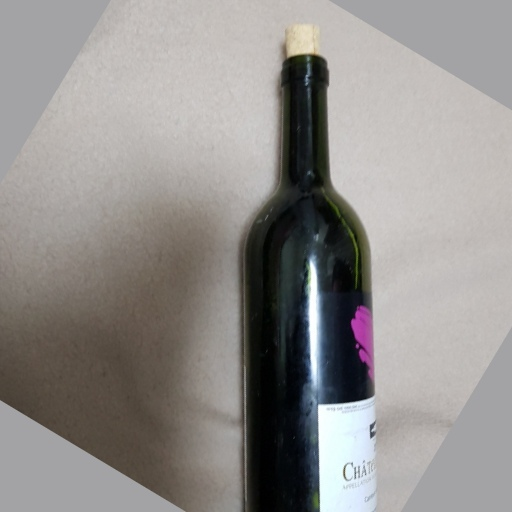Glass_2: (228, 16, 405, 512)
